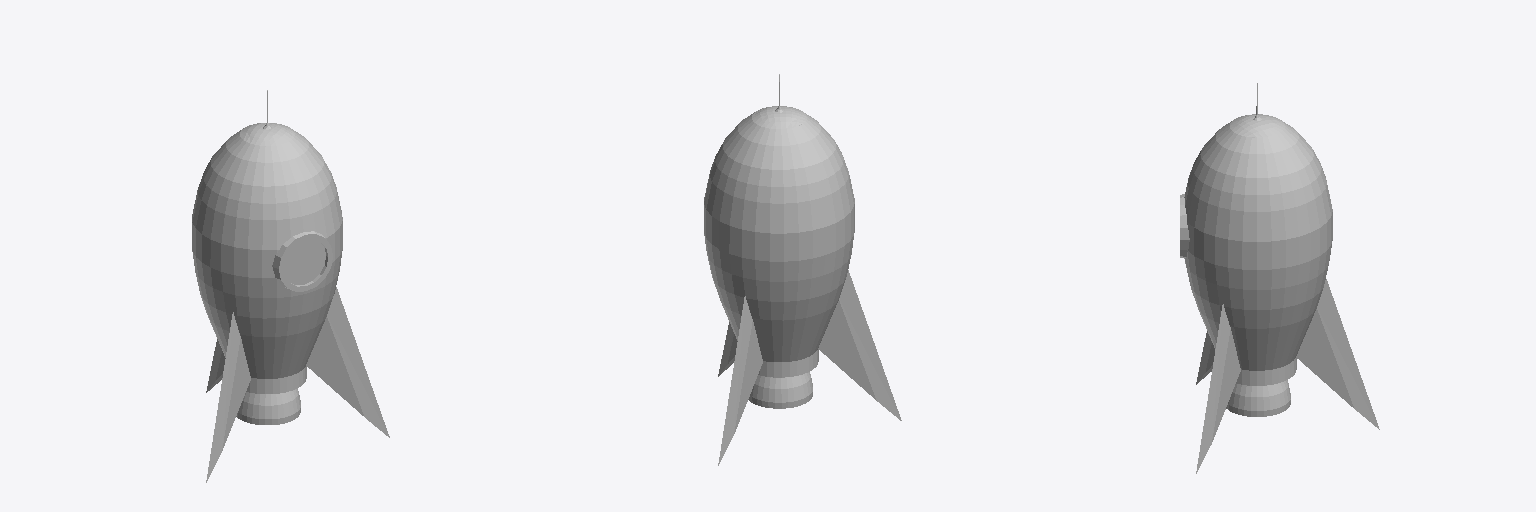
The model's file is Rocket.obj.
3 views of the same model, side by side, from view 1: azimuth 30°, elevation 25°; view 2: azimuth 150°, elevation 25°; view 3: azimuth 270°, elevation 25° (orthographic).
Parts seen in each view (by area): view 1: Rocket_Cylinder.005; view 2: Rocket_Cylinder.005; view 3: Rocket_Cylinder.005.
Part boxes in pixels (x1,y1,x2,y2): Rocket_Cylinder.005: (192,90,389,482); Rocket_Cylinder.005: (704,74,901,465); Rocket_Cylinder.005: (1180,83,1379,473).
Bounding box in the file's own units: 2.67 × 4.83 × 2.51.